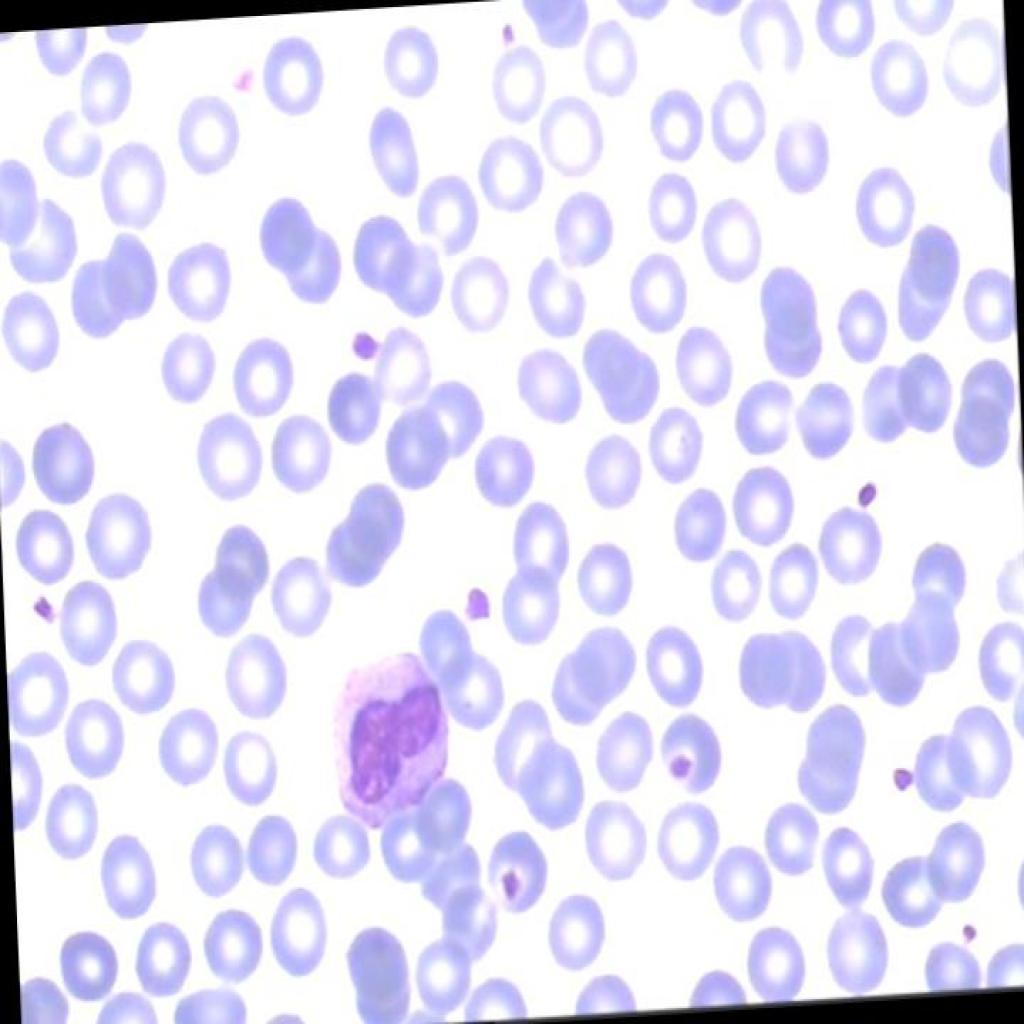Monosit: (314, 631, 458, 830)
Platelet: (874, 752, 924, 814), (946, 905, 987, 969), (838, 468, 886, 519), (454, 579, 489, 633), (494, 862, 528, 916), (19, 587, 54, 631), (346, 324, 382, 366), (662, 745, 696, 789), (220, 52, 258, 87), (489, 21, 521, 57)
